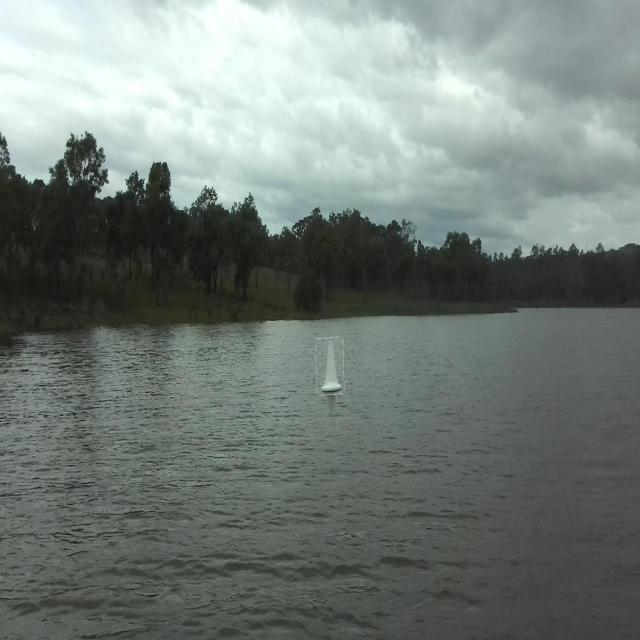White_Buoy: (318, 333, 347, 413)
